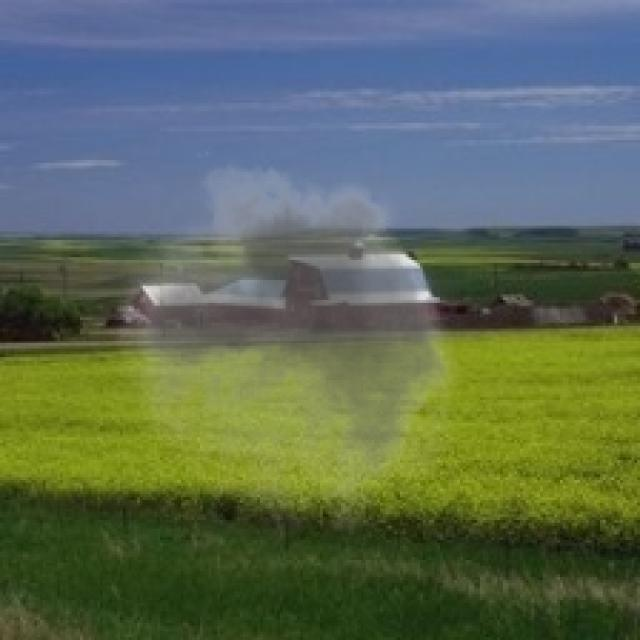smoke: (114, 146, 472, 543)
